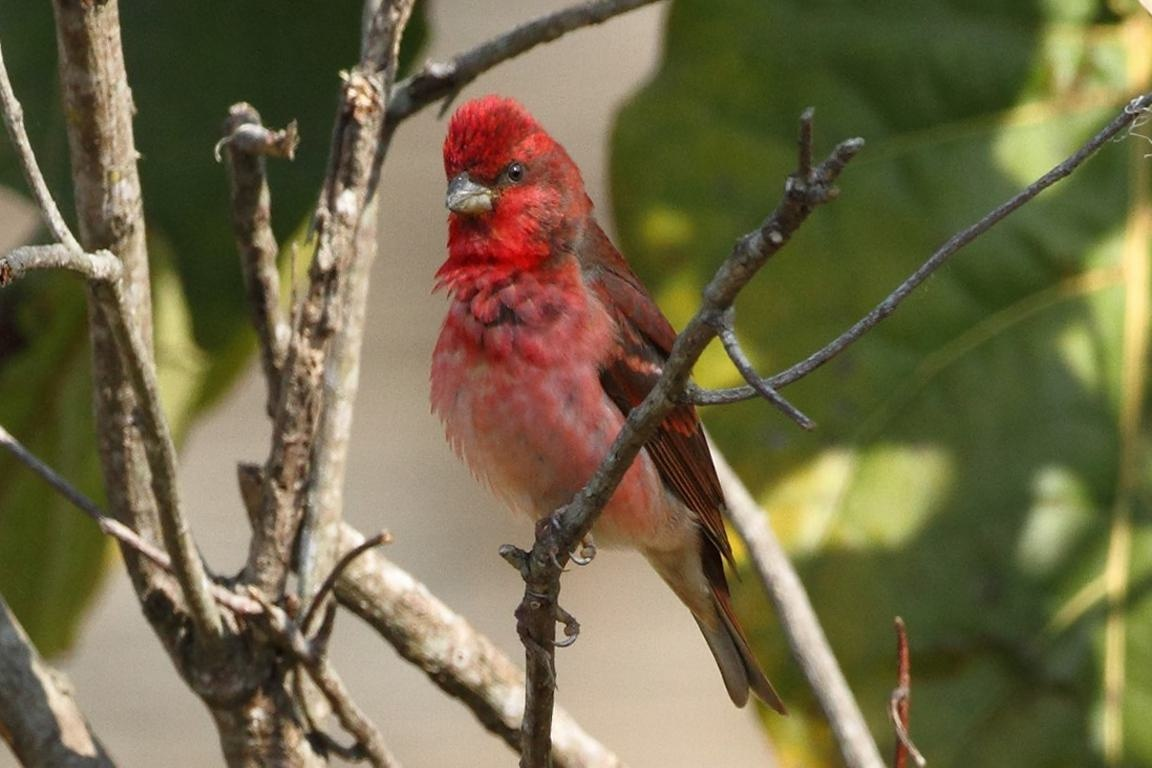rosefinch: (412, 105, 779, 591)
